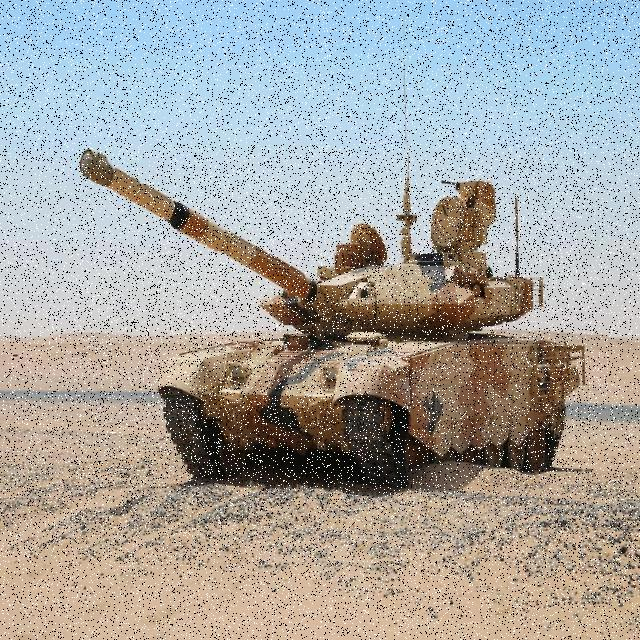MIL_MBT: (75, 145, 591, 480)
